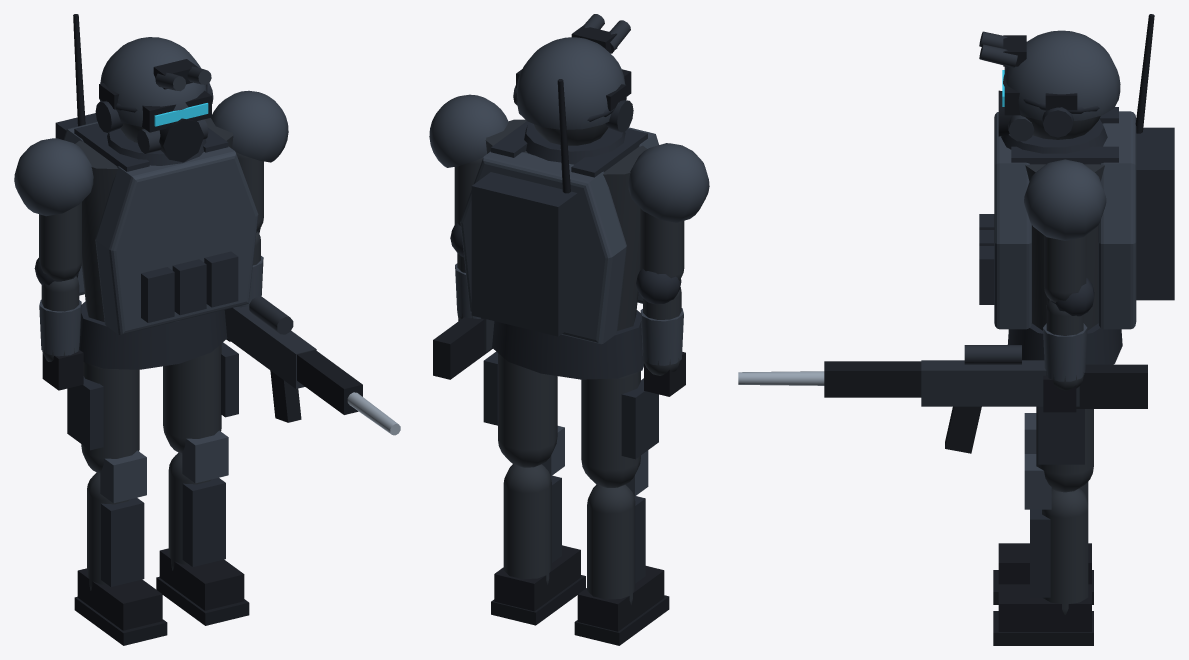
File: enemy_trooper.glb
The picture shows the model from 3 angles, left to right: view 1: azimuth 30°, elevation 25°; view 2: azimuth 150°, elevation 25°; view 3: azimuth 270°, elevation 25°; orthographic projection. The views are drawn at different scales.
Parts seen in each view (by area): view 1: TorsoPivot, HeadPivot, RightKneePivot, LeftKneePivot, RifleMount, LeftArmPivot, LeftLegPivot, RightLegPivot, RightArmPivot, LeftElbowPivot, RightElbowPivot; view 2: TorsoPivot, HeadPivot, LeftKneePivot, RightKneePivot, LeftArmPivot, LeftLegPivot, RightLegPivot, RightArmPivot, LeftElbowPivot, RifleMount, RightElbowPivot; view 3: TorsoPivot, RifleMount, HeadPivot, RightKneePivot, RightArmPivot, RightElbowPivot, RightLegPivot, LeftKneePivot.
Boxes of the visible parts, x1=… form: TorsoPivot: x1=55, y1=14, x2=258, y2=369; HeadPivot: x1=95, y1=37, x2=213, y2=165; RightKneePivot: x1=156, y1=430, x2=249, y2=625; LeftKneePivot: x1=74, y1=450, x2=167, y2=645; RifleMount: x1=224, y1=296, x2=400, y2=435; LeftArmPivot: x1=14, y1=138, x2=93, y2=280; LeftLegPivot: x1=67, y1=362, x2=139, y2=473; RightLegPivot: x1=163, y1=342, x2=238, y2=453; RightArmPivot: x1=211, y1=90, x2=288, y2=231; LeftElbowPivot: x1=34, y1=258, x2=83, y2=390; RightElbowPivot: x1=238, y1=228, x2=263, y2=307; TorsoPivot: x1=460, y1=79, x2=658, y2=379; HeadPivot: x1=513, y1=14, x2=633, y2=164; LeftKneePivot: x1=574, y1=450, x2=669, y2=645; RightKneePivot: x1=491, y1=426, x2=585, y2=625; LeftArmPivot: x1=628, y1=143, x2=709, y2=280; LeftLegPivot: x1=581, y1=371, x2=658, y2=487; RightLegPivot: x1=483, y1=351, x2=557, y2=467; RightArmPivot: x1=429, y1=94, x2=508, y2=225; LeftElbowPivot: x1=636, y1=268, x2=685, y2=396; RifleMount: x1=433, y1=317, x2=494, y2=379; RightElbowPivot: x1=450, y1=223, x2=480, y2=321; TorsoPivot: x1=979, y1=14, x2=1174, y2=364; RifleMount: x1=738, y1=345, x2=1147, y2=453; HeadPivot: x1=979, y1=30, x2=1120, y2=153; RightKneePivot: x1=993, y1=454, x2=1093, y2=645; RightArmPivot: x1=1024, y1=159, x2=1106, y2=302; RightElbowPivot: x1=1043, y1=278, x2=1094, y2=412; RightLegPivot: x1=1036, y1=406, x2=1093, y2=492; LeftKneePivot: x1=993, y1=413, x2=1093, y2=604.
Bounding box in the file's own units: 0.8689 × 1.79 × 1.22.
